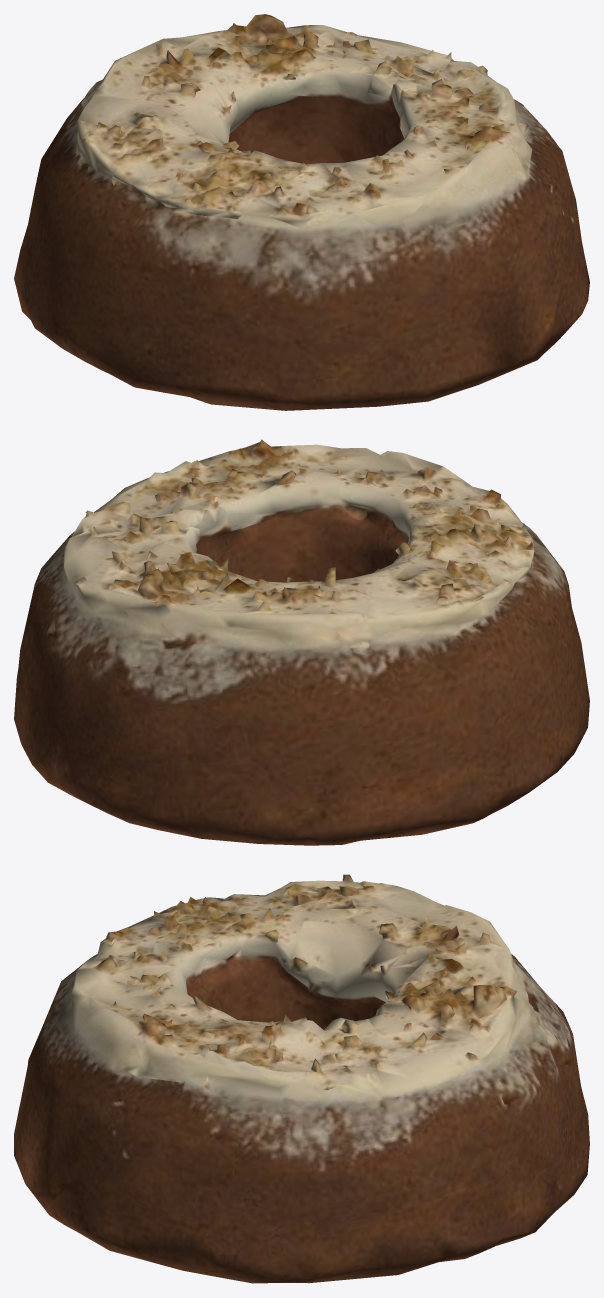
File: carrot_cake.glb
3 renders of one model, top to bottom at view 1: azimuth 30°, elevation 25°; view 2: azimuth 150°, elevation 25°; view 3: azimuth 270°, elevation 25°, orthographic. The views are drawn at different scales.
Visible parts, largest first — view 1: carrot_cake; view 2: carrot_cake; view 3: carrot_cake.
Part boxes in pixels (x1,y1,x2,y2): carrot_cake: (14, 14, 589, 410); carrot_cake: (14, 439, 589, 845); carrot_cake: (14, 874, 589, 1283).
Size of the model in its own units: 0.2254 by 0.0976 by 0.2254.
1 material, 1 textured.
